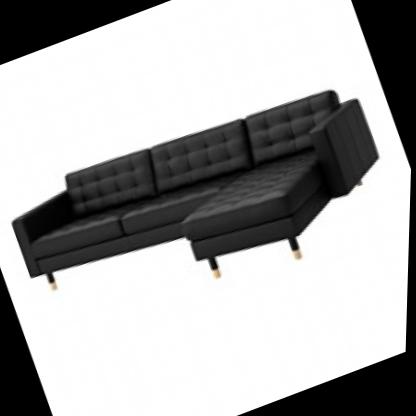Sofa: (0, 48, 415, 366)
